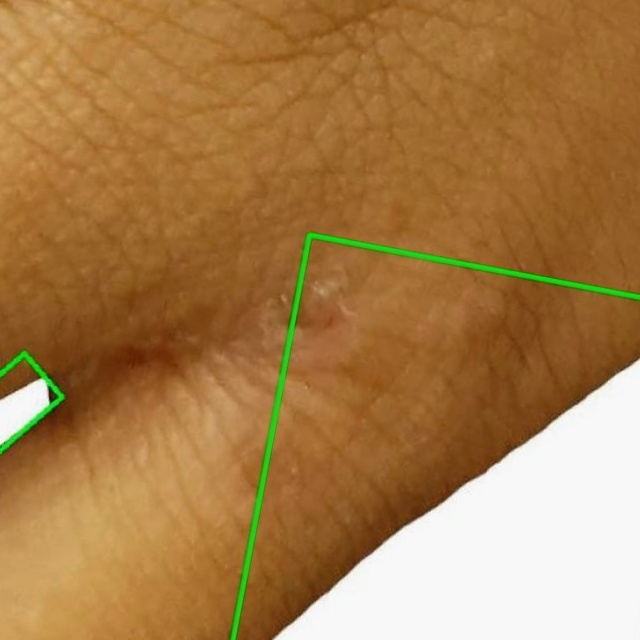Scabies: (233, 234, 639, 639)
